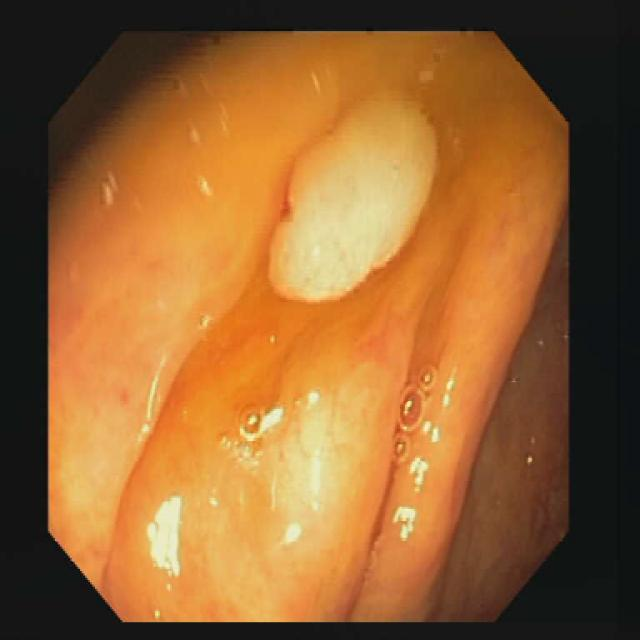tumor: (268, 96, 437, 300)
